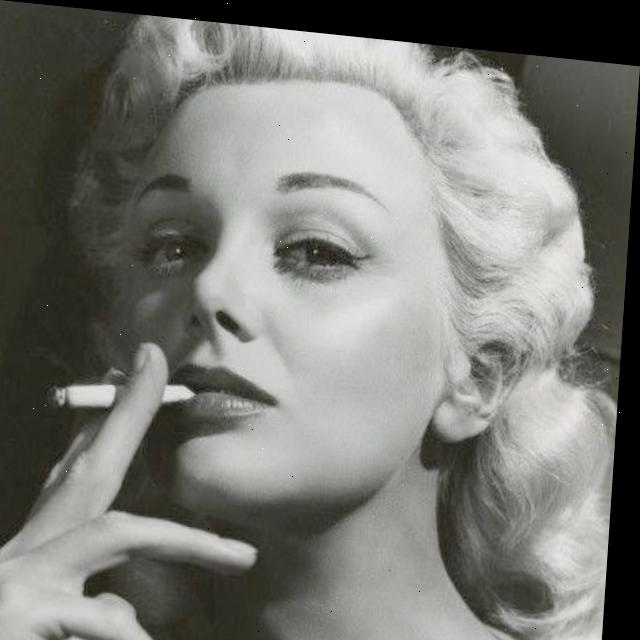cigarette: (48, 369, 201, 419)
